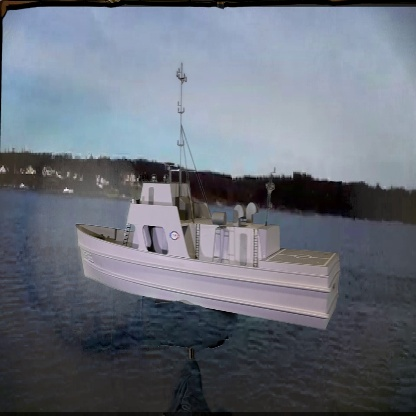YP689: (77, 67, 341, 329)
